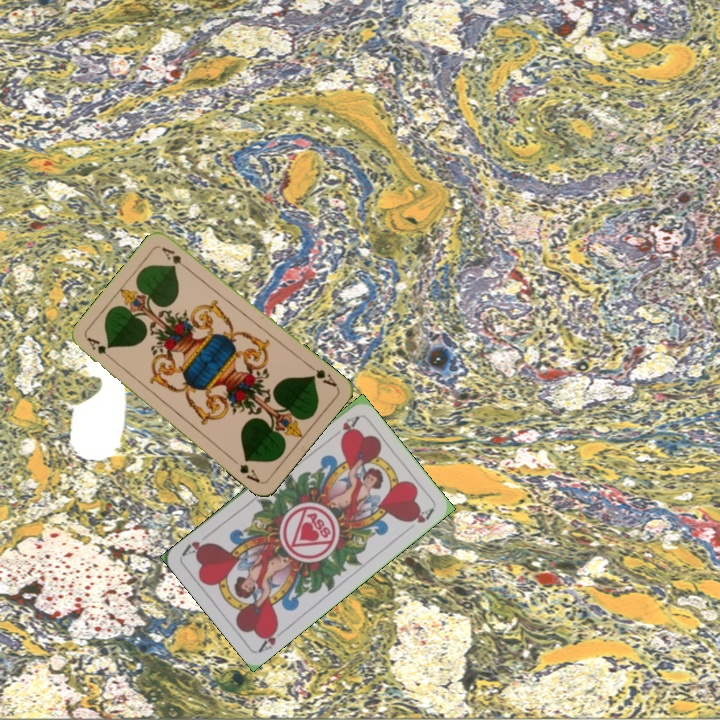GA: (304, 360, 340, 390), (83, 333, 117, 364)
HA: (255, 622, 289, 654), (326, 412, 362, 442)
